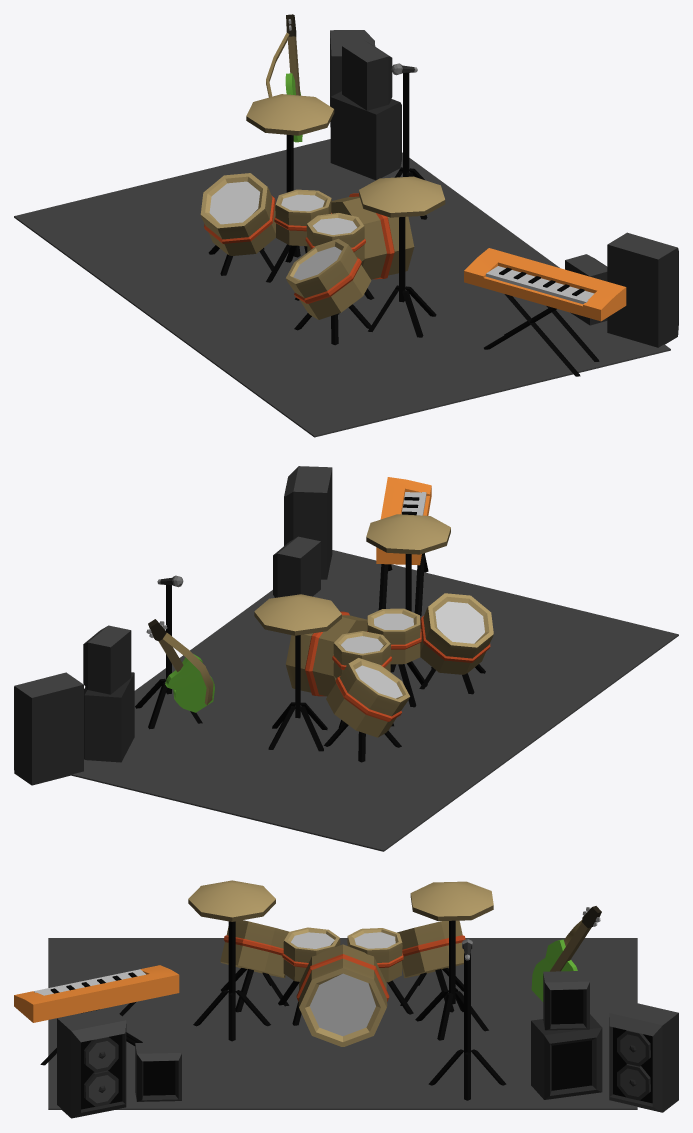
File: source_rockband.fbx
3 views of the same model, one above another, from view 1: azimuth 30°, elevation 25°; view 2: azimuth 150°, elevation 25°; view 3: azimuth 270°, elevation 25° (orthographic).
Visible parts, largest first — view 1: polySurface107; view 2: polySurface107; view 3: polySurface107.
Part boxes in pixels (x1=…): polySurface107: x1=14, y1=14, x2=678, y2=437; polySurface107: x1=14, y1=466, x2=678, y2=851; polySurface107: x1=14, y1=880, x2=678, y2=1118.
Bounding box in the file's own units: 9.84 × 3.92 × 15.15.
